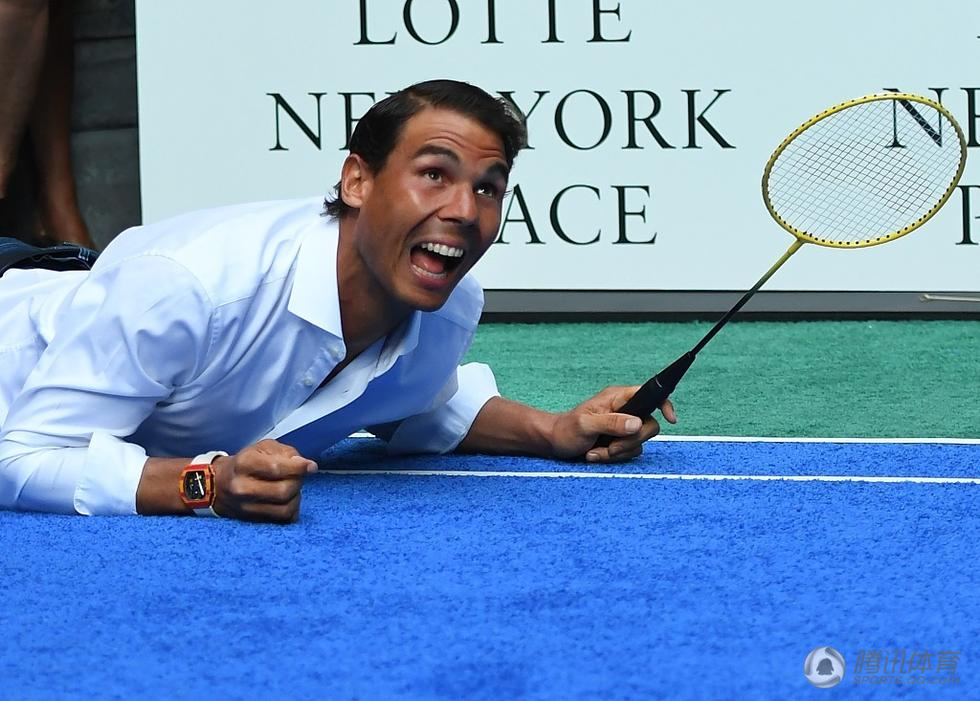down: (1, 73, 699, 533)
